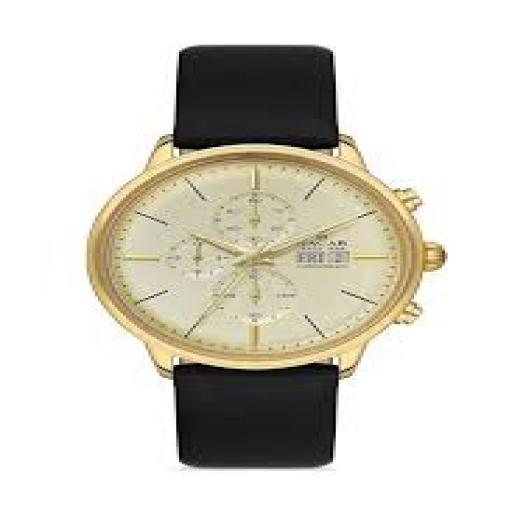KolSaati: (71, 27, 484, 496)
